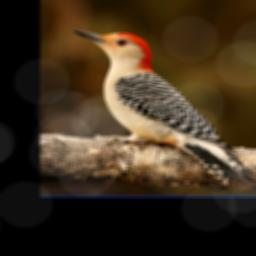Woodpecker: (74, 30, 256, 191)
